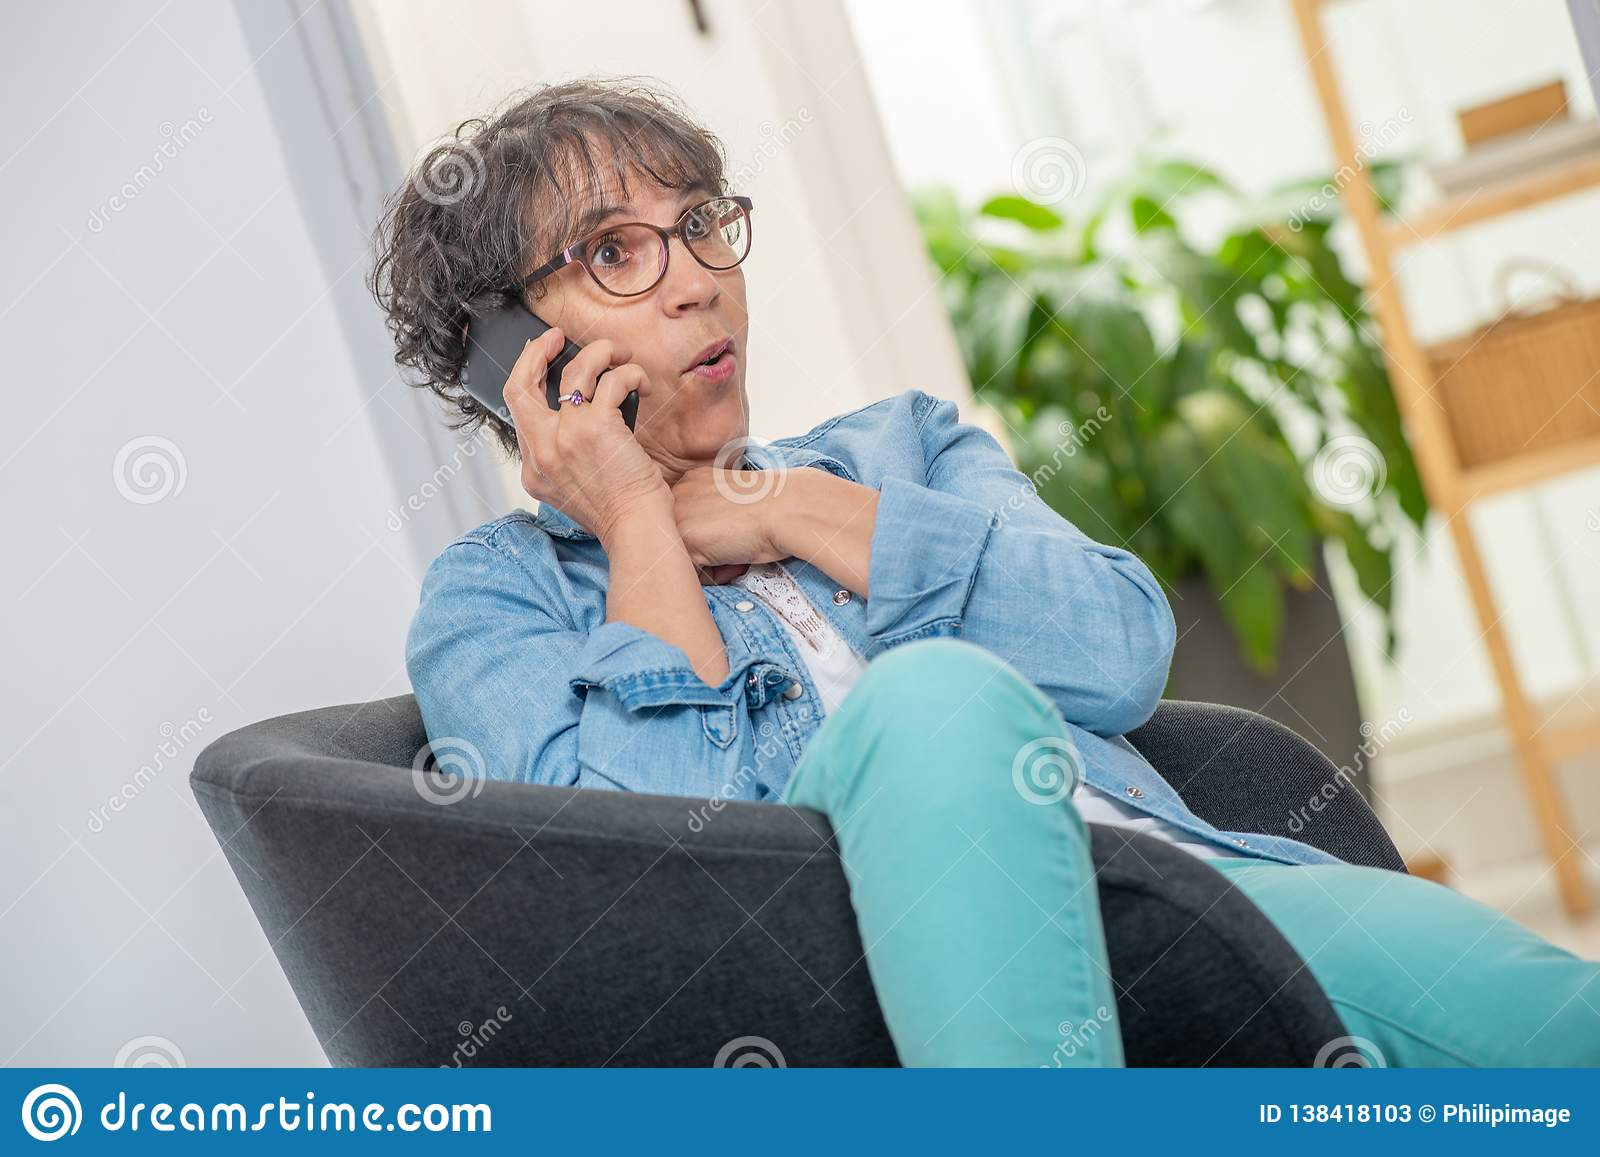phone: (455, 293, 645, 465)
talk: (450, 176, 753, 549)
